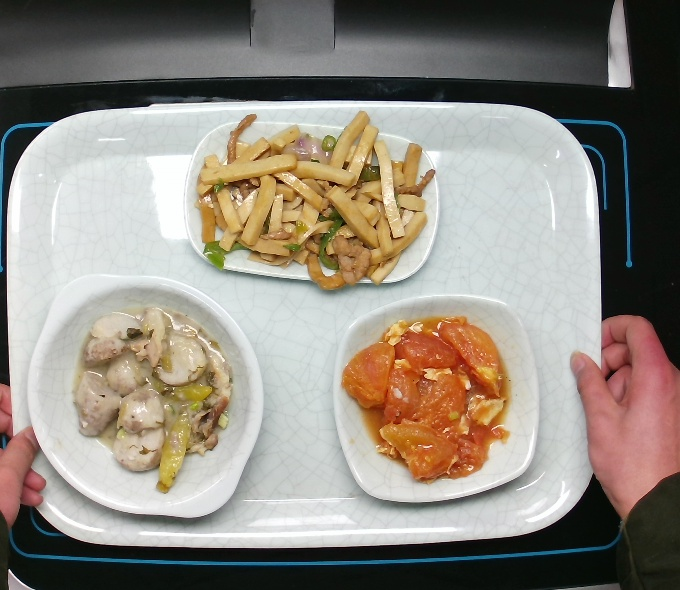wcq-FanQieChaoDan: (336, 307, 515, 487)
wcq-QianYeDouFu: (186, 102, 445, 298)
wcq-YangYu: (63, 306, 237, 501)
